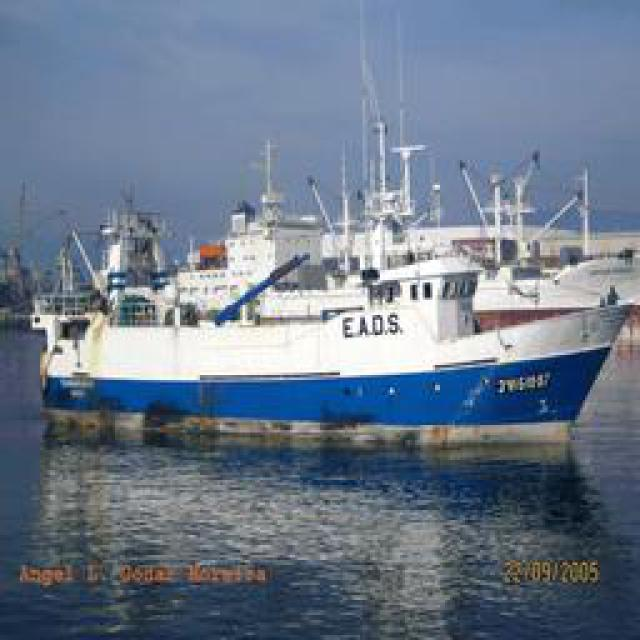Ship: (45, 42, 630, 430)
